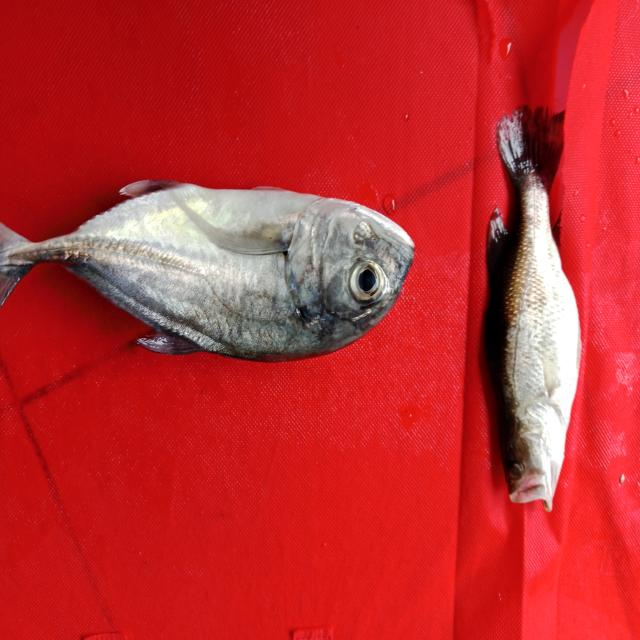ikan: (16, 160, 420, 376), (473, 97, 592, 526)
